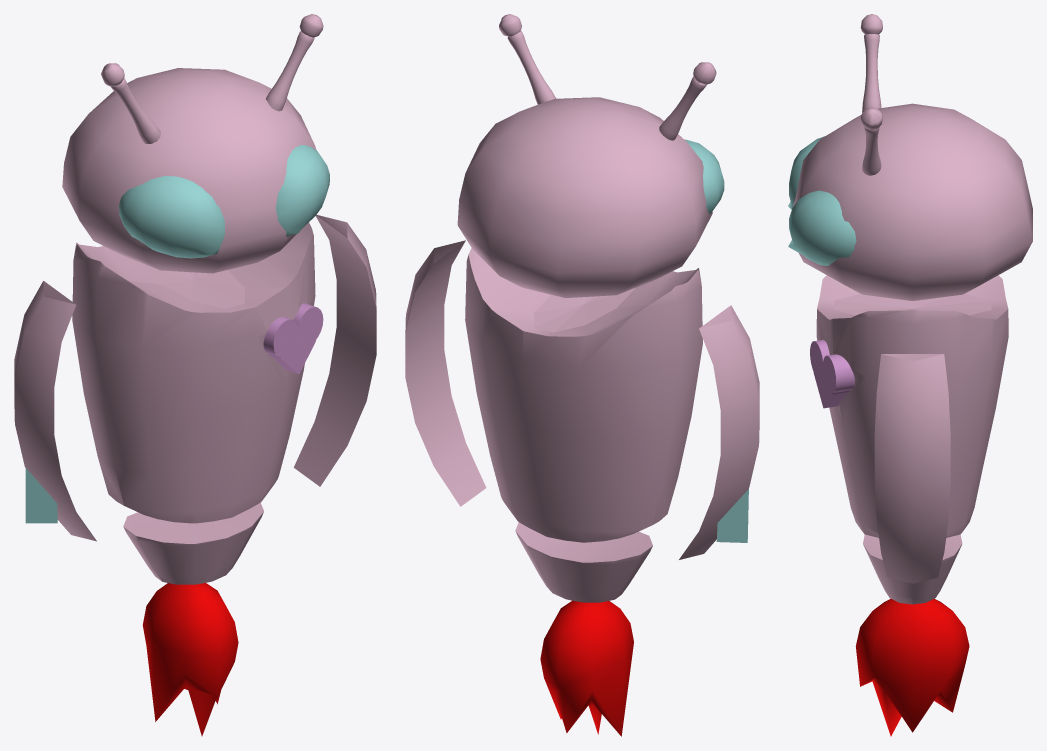
Rendered from aliengirls.fbx.
3 views of the same model, side by side, from view 1: azimuth 30°, elevation 25°; view 2: azimuth 150°, elevation 25°; view 3: azimuth 270°, elevation 25° (orthographic). The views are drawn at different scales.
Parts seen in each view (by area): view 1: side1; view 2: side1; view 3: side1.
Part boxes in pixels (left/top/right/bottom): side1: left=14, top=14, right=376, bottom=736; side1: left=405, top=14, right=759, bottom=736; side1: left=788, top=14, right=1032, bottom=736.
Size of the model in its own units: 10.05 by 18.73 by 6.15.
